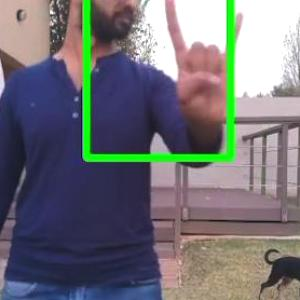takeoff-hand: (158, 0, 252, 133)
